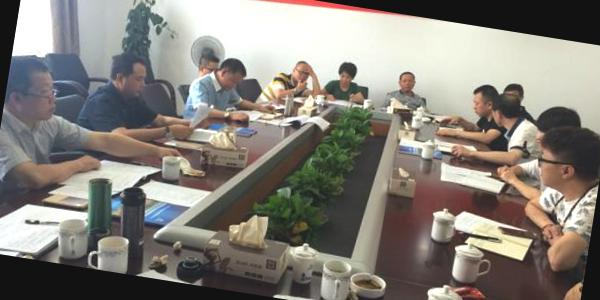no_helmet: (525, 116, 600, 198), (7, 60, 64, 125), (532, 98, 586, 154), (103, 49, 152, 105), (486, 91, 524, 135), (468, 82, 505, 124), (212, 54, 248, 92), (332, 59, 360, 90), (288, 56, 314, 88), (194, 52, 222, 79), (396, 66, 419, 94)
